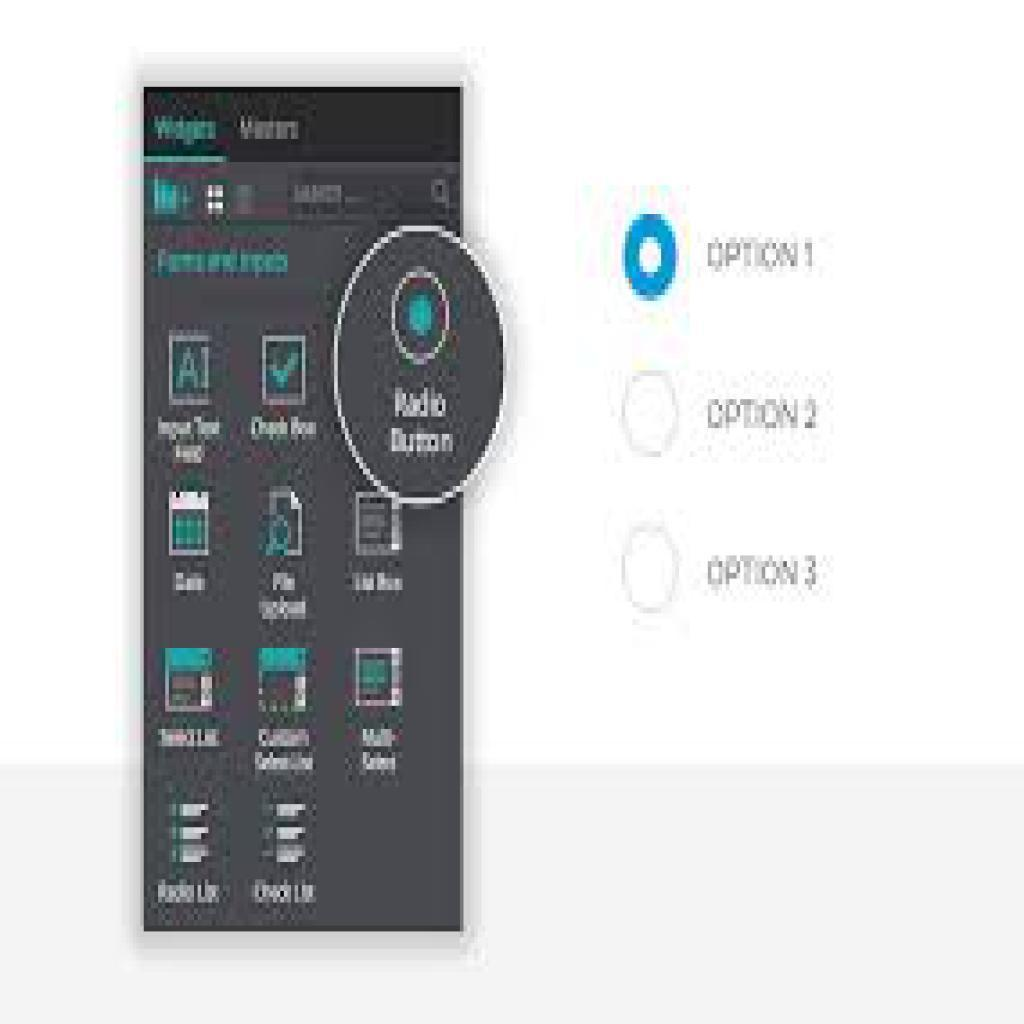label: (698, 390, 827, 437), (700, 551, 828, 595), (702, 232, 820, 279)
radio: (618, 368, 683, 459), (619, 524, 682, 615), (618, 212, 679, 302)
